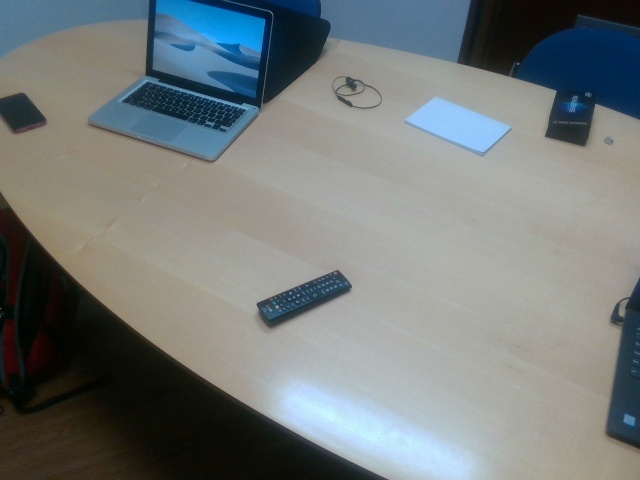remote: (263, 270, 352, 324)
